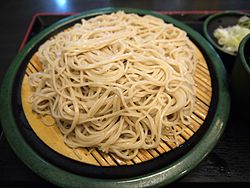Soba: (38, 12, 199, 155)
